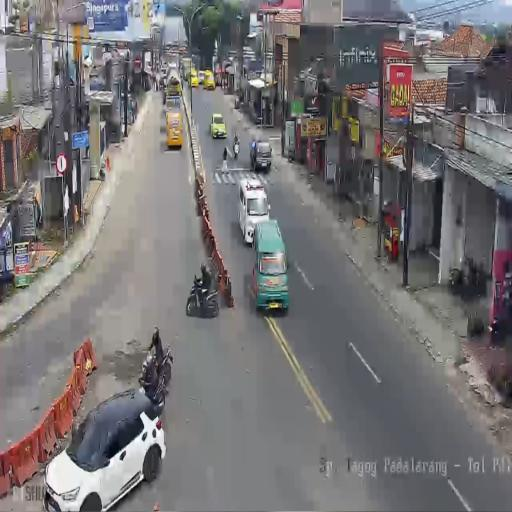3: (166, 70, 181, 99), (182, 58, 194, 84)
car: (42, 386, 166, 510), (252, 222, 290, 311), (237, 174, 269, 244), (249, 139, 271, 172), (166, 108, 183, 148), (210, 113, 227, 138), (203, 69, 215, 90), (161, 62, 169, 84)
truck: (187, 273, 220, 318)
